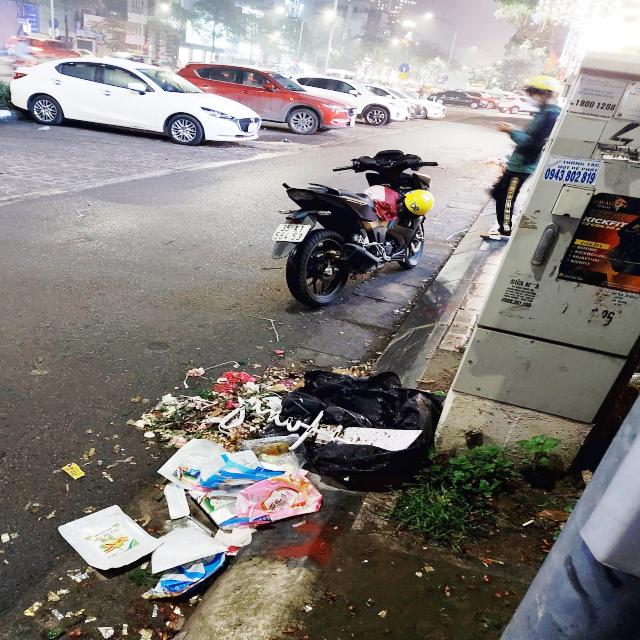license_plate: (270, 223, 315, 243)
